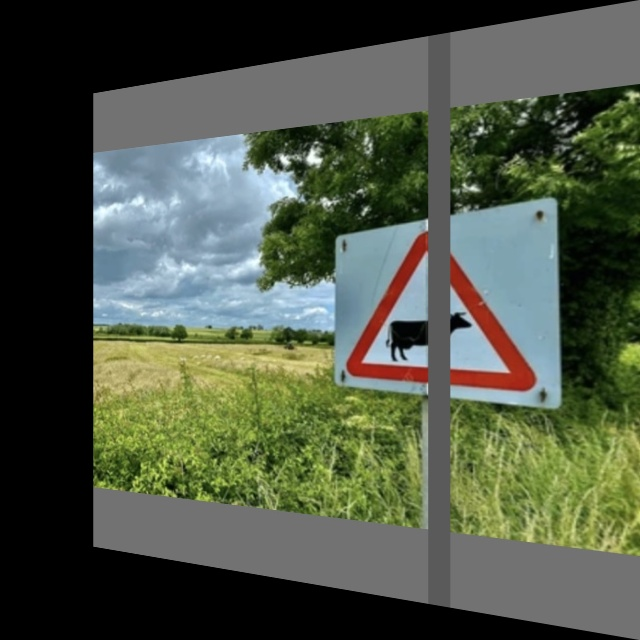Cattle: (340, 223, 542, 403)
